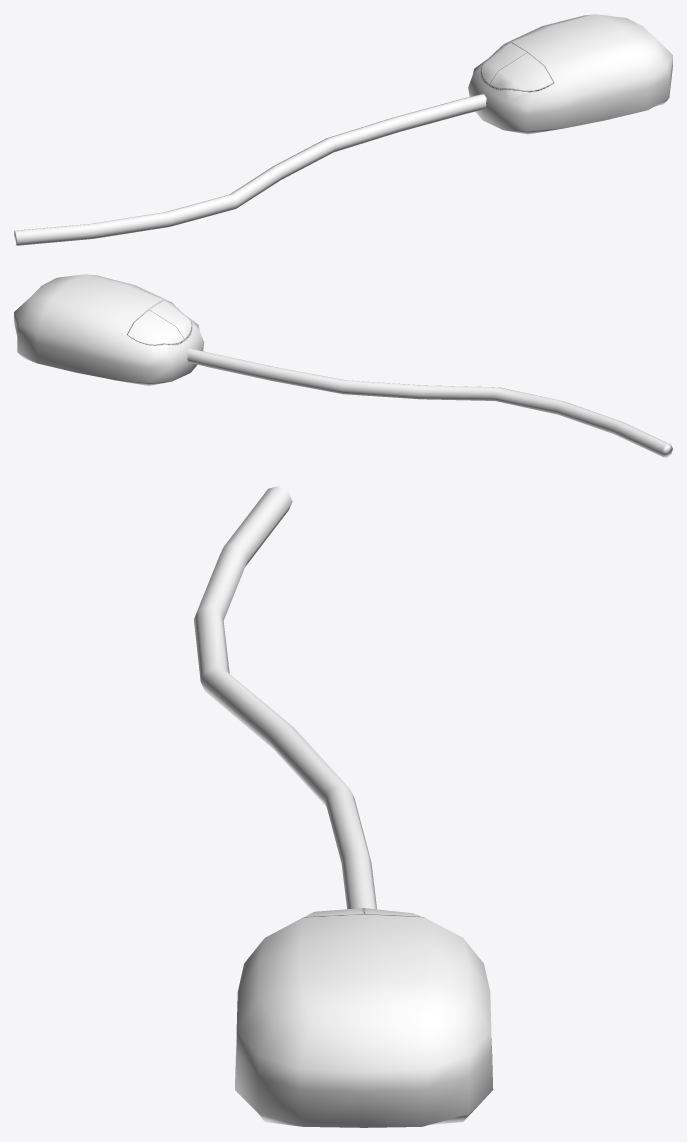
The model's file is Mouse_Textured.fbx.
3 renders of one model, top to bottom at view 1: azimuth 30°, elevation 25°; view 2: azimuth 150°, elevation 25°; view 3: azimuth 270°, elevation 25°, orthographic. The views are drawn at different scales.
Parts seen in each view (by area): view 1: polySurface1; view 2: polySurface1; view 3: polySurface1.
Boxes of the visible parts, bbox=[...] form: polySurface1: bbox=[14, 14, 672, 245]; polySurface1: bbox=[14, 274, 672, 457]; polySurface1: bbox=[193, 486, 493, 1127].
Bounding box in the file's own units: 64.34 × 6 × 13.45.
